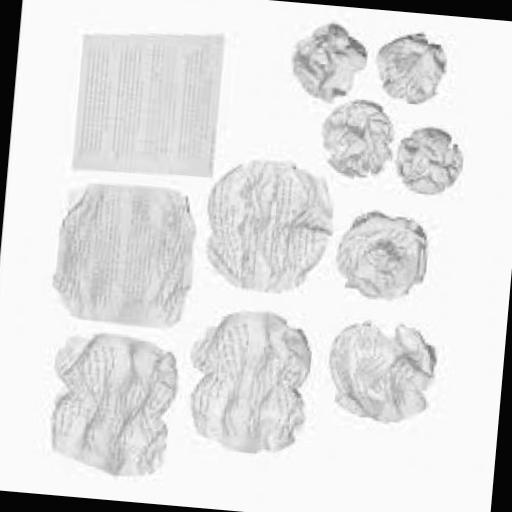paper: (66, 18, 224, 180), (46, 176, 198, 328), (40, 326, 177, 477), (198, 152, 336, 298), (184, 309, 306, 452), (320, 316, 436, 426), (330, 208, 428, 298), (288, 18, 369, 102), (315, 94, 394, 178), (368, 26, 446, 104), (388, 123, 460, 193)
